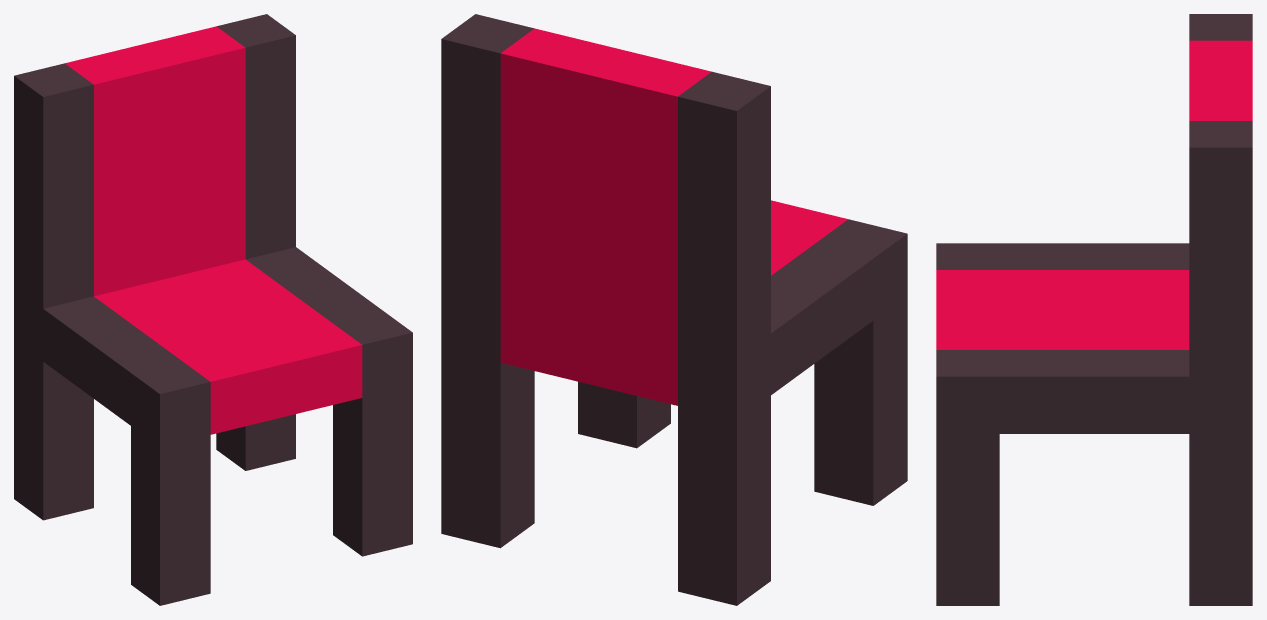
File: chair_c_red.obj
3 views of the same model, side by side, from view 1: azimuth 30°, elevation 25°; view 2: azimuth 150°, elevation 25°; view 3: azimuth 270°, elevation 25° (orthographic). The views are drawn at different scales.
Bounding box in the file's own units: 0.5 × 0.8 × 0.5.
1 material, 1 textured.
